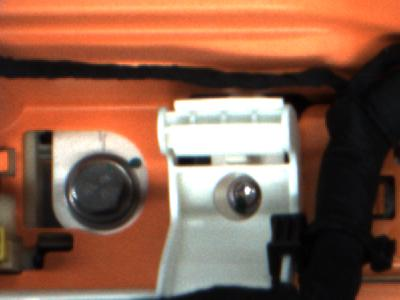nut_b: (62, 151, 146, 230)
